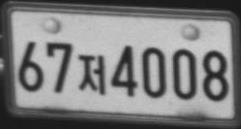0: (141, 47, 167, 98), (172, 48, 197, 100)
4: (111, 44, 138, 98)
6: (18, 41, 44, 92)
7: (46, 41, 73, 93)
8: (202, 49, 229, 102)
저: (78, 53, 105, 96)
